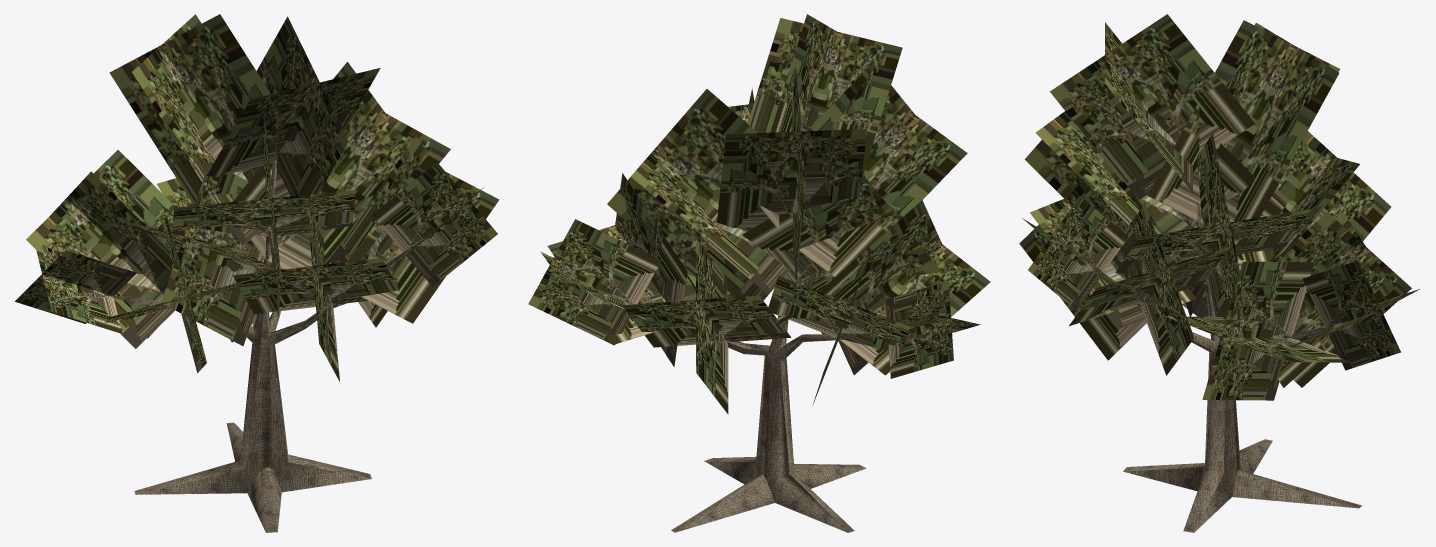
The picture shows the model from 3 angles, left to right: view 1: azimuth 30°, elevation 25°; view 2: azimuth 150°, elevation 25°; view 3: azimuth 270°, elevation 25°; orthographic projection. The views are drawn at different scales.
Visible parts, largest first — view 1: _dt01b; view 2: _dt01b; view 3: _dt01b.
Boxes of the visible parts, x1,y1,x2,y2 form: _dt01b: (15,14,499,532); _dt01b: (528,14,990,532); _dt01b: (1019,14,1420,532).
Bounding box in the file's own units: 9.37 × 10.2 × 7.86.
2 materials, 2 textured.
